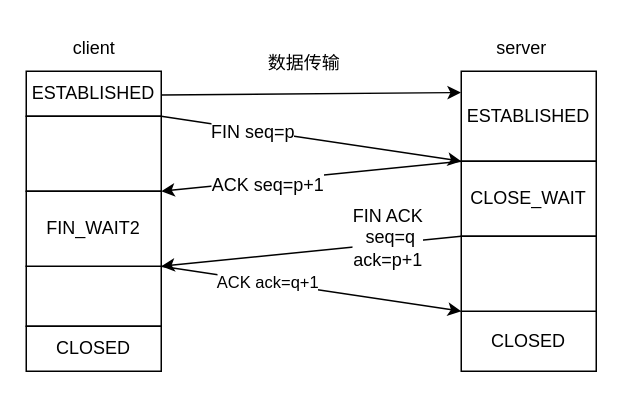
Image size: 623x398. Some labels were removed from this diagram. The shapes that lost their labels are listed below. From the top down, each one's centre as x and y in pixels, then its label:
At pixel 93 153: "FIN_WAIT1".
At pixel 528 273: "LAST_ACK".
At pixel 93 295: "TIME_WAIT ( 2MSL )".
